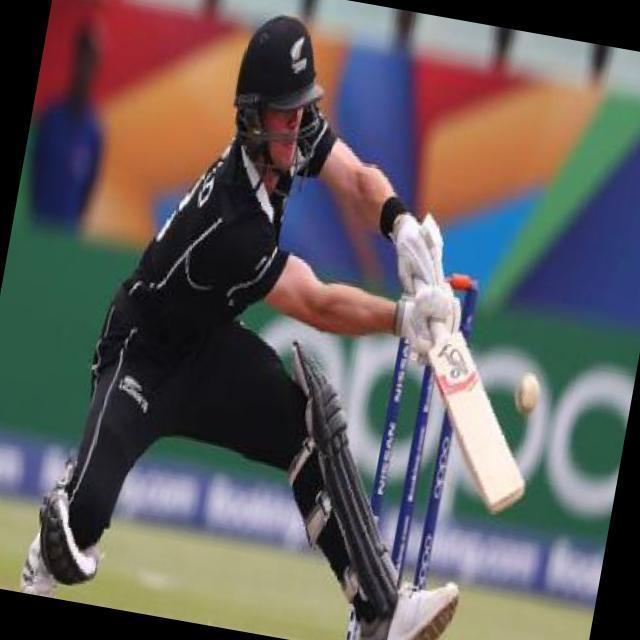-: (516, 342, 571, 429)
